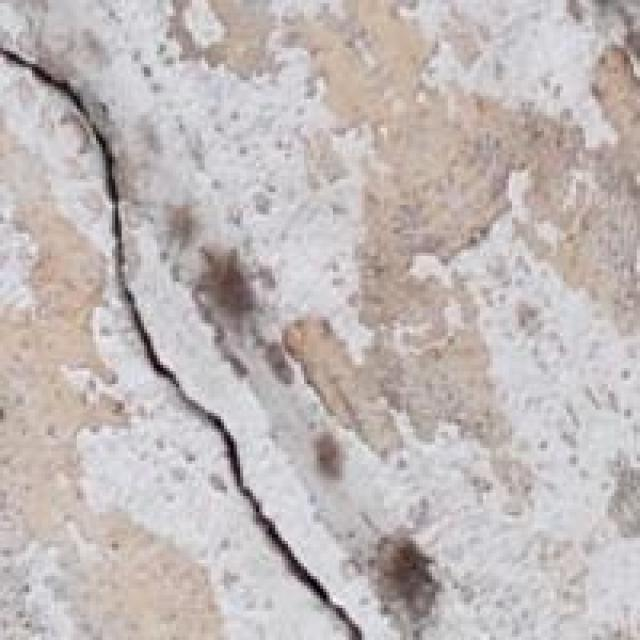Crack: (0, 9, 410, 636)
